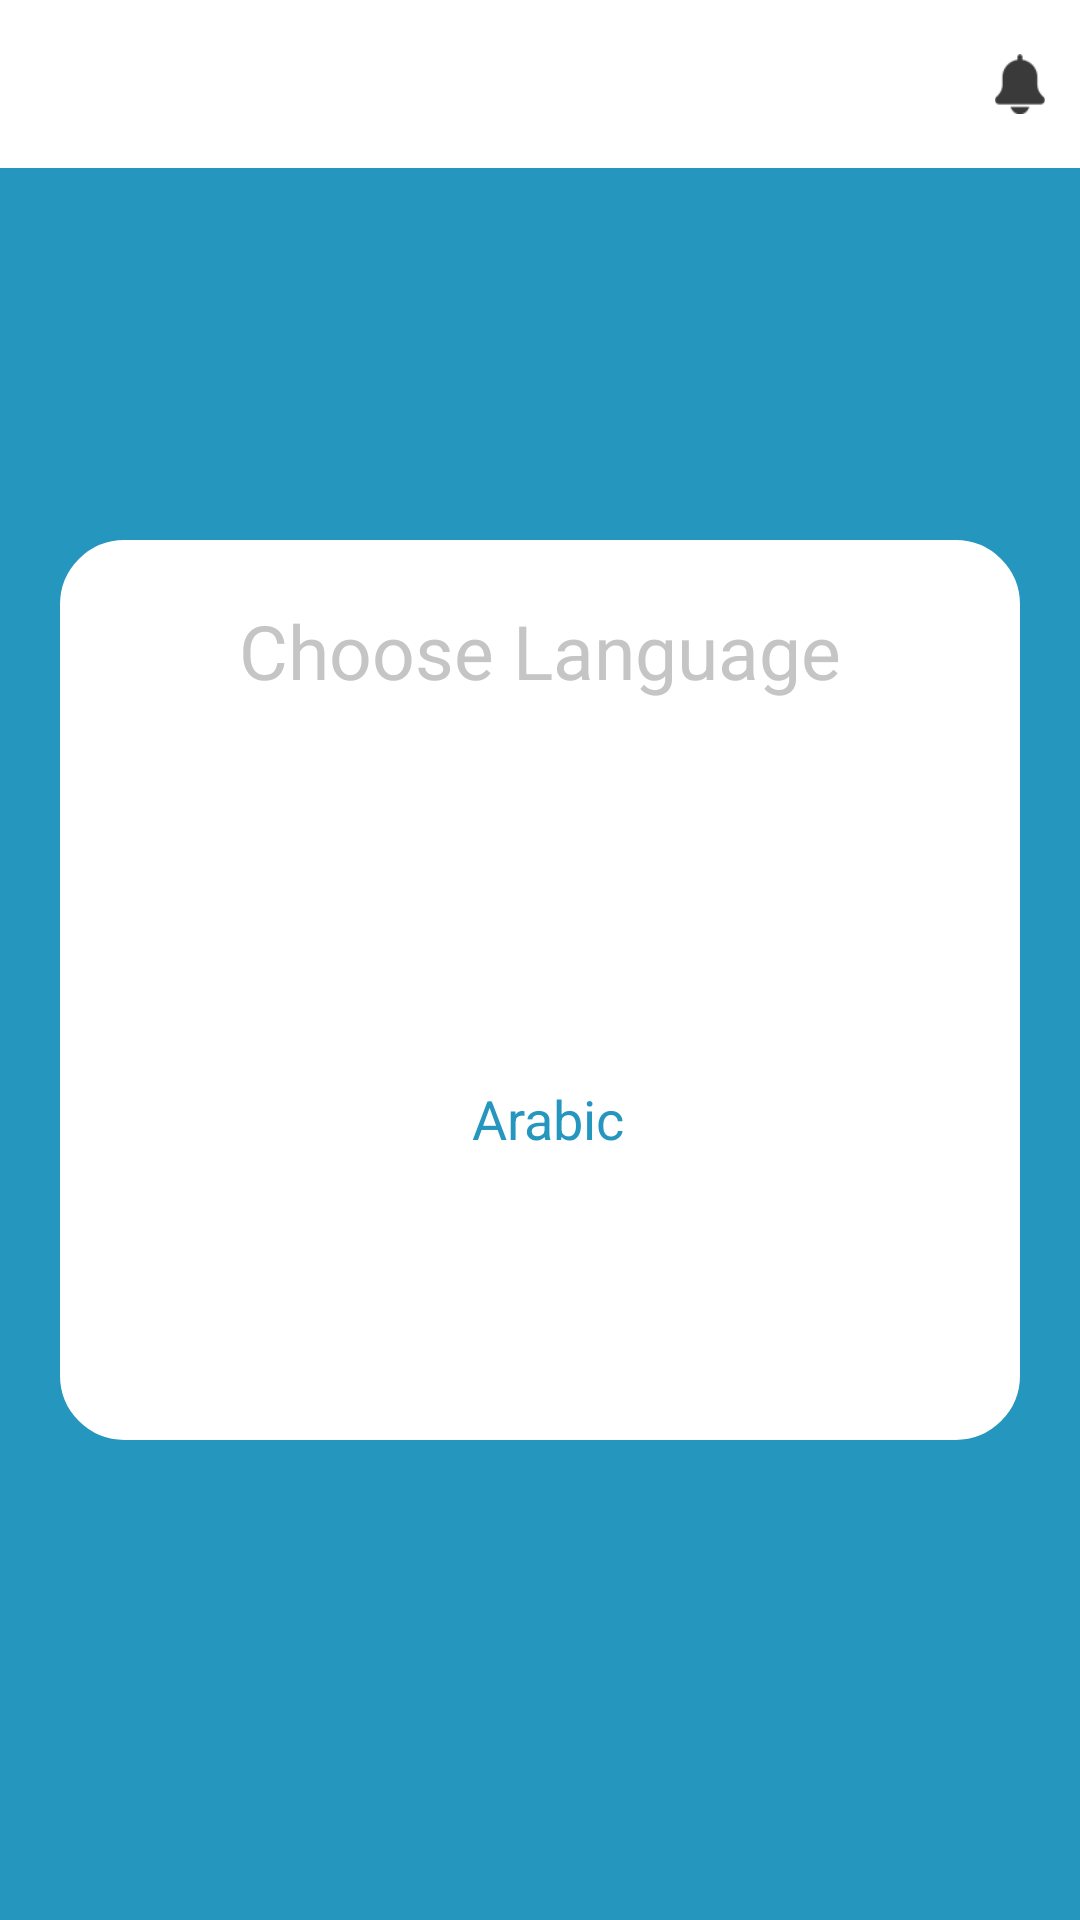

Screen size 1080w x 1920h. Icon name, then its center in pixels as (x=x, y=y):
bell: (x=1020, y=84)
